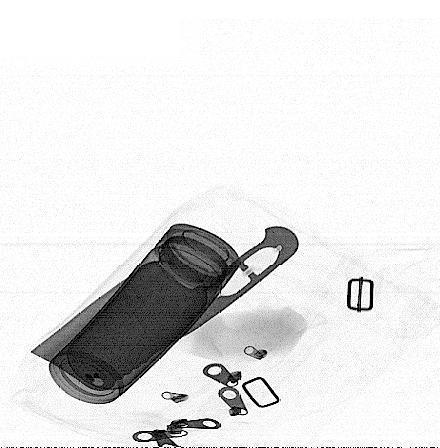Knife: (29, 224, 301, 394)
